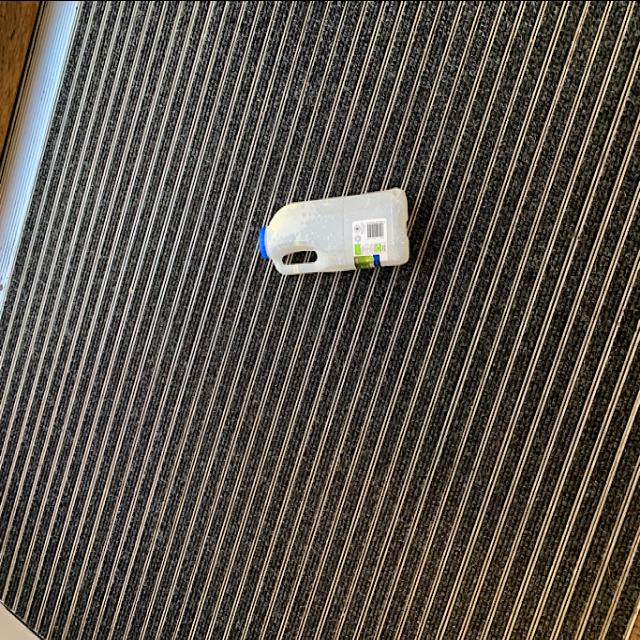litter: (256, 184, 408, 280)
